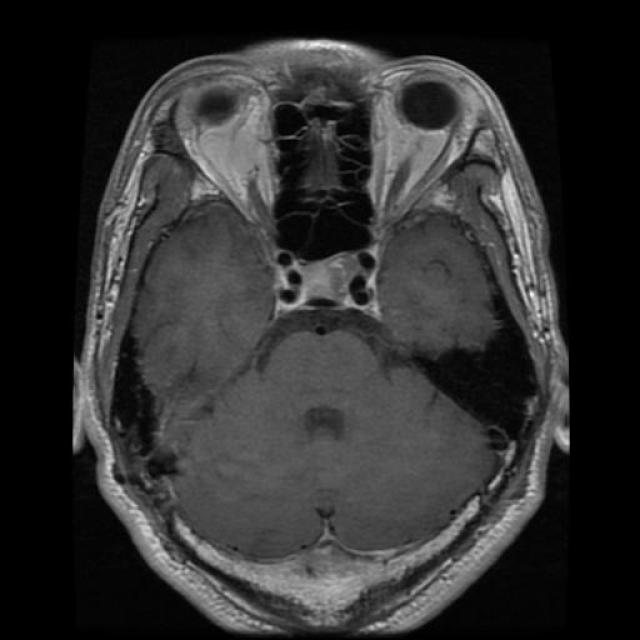pituitary: (250, 236, 383, 348)
